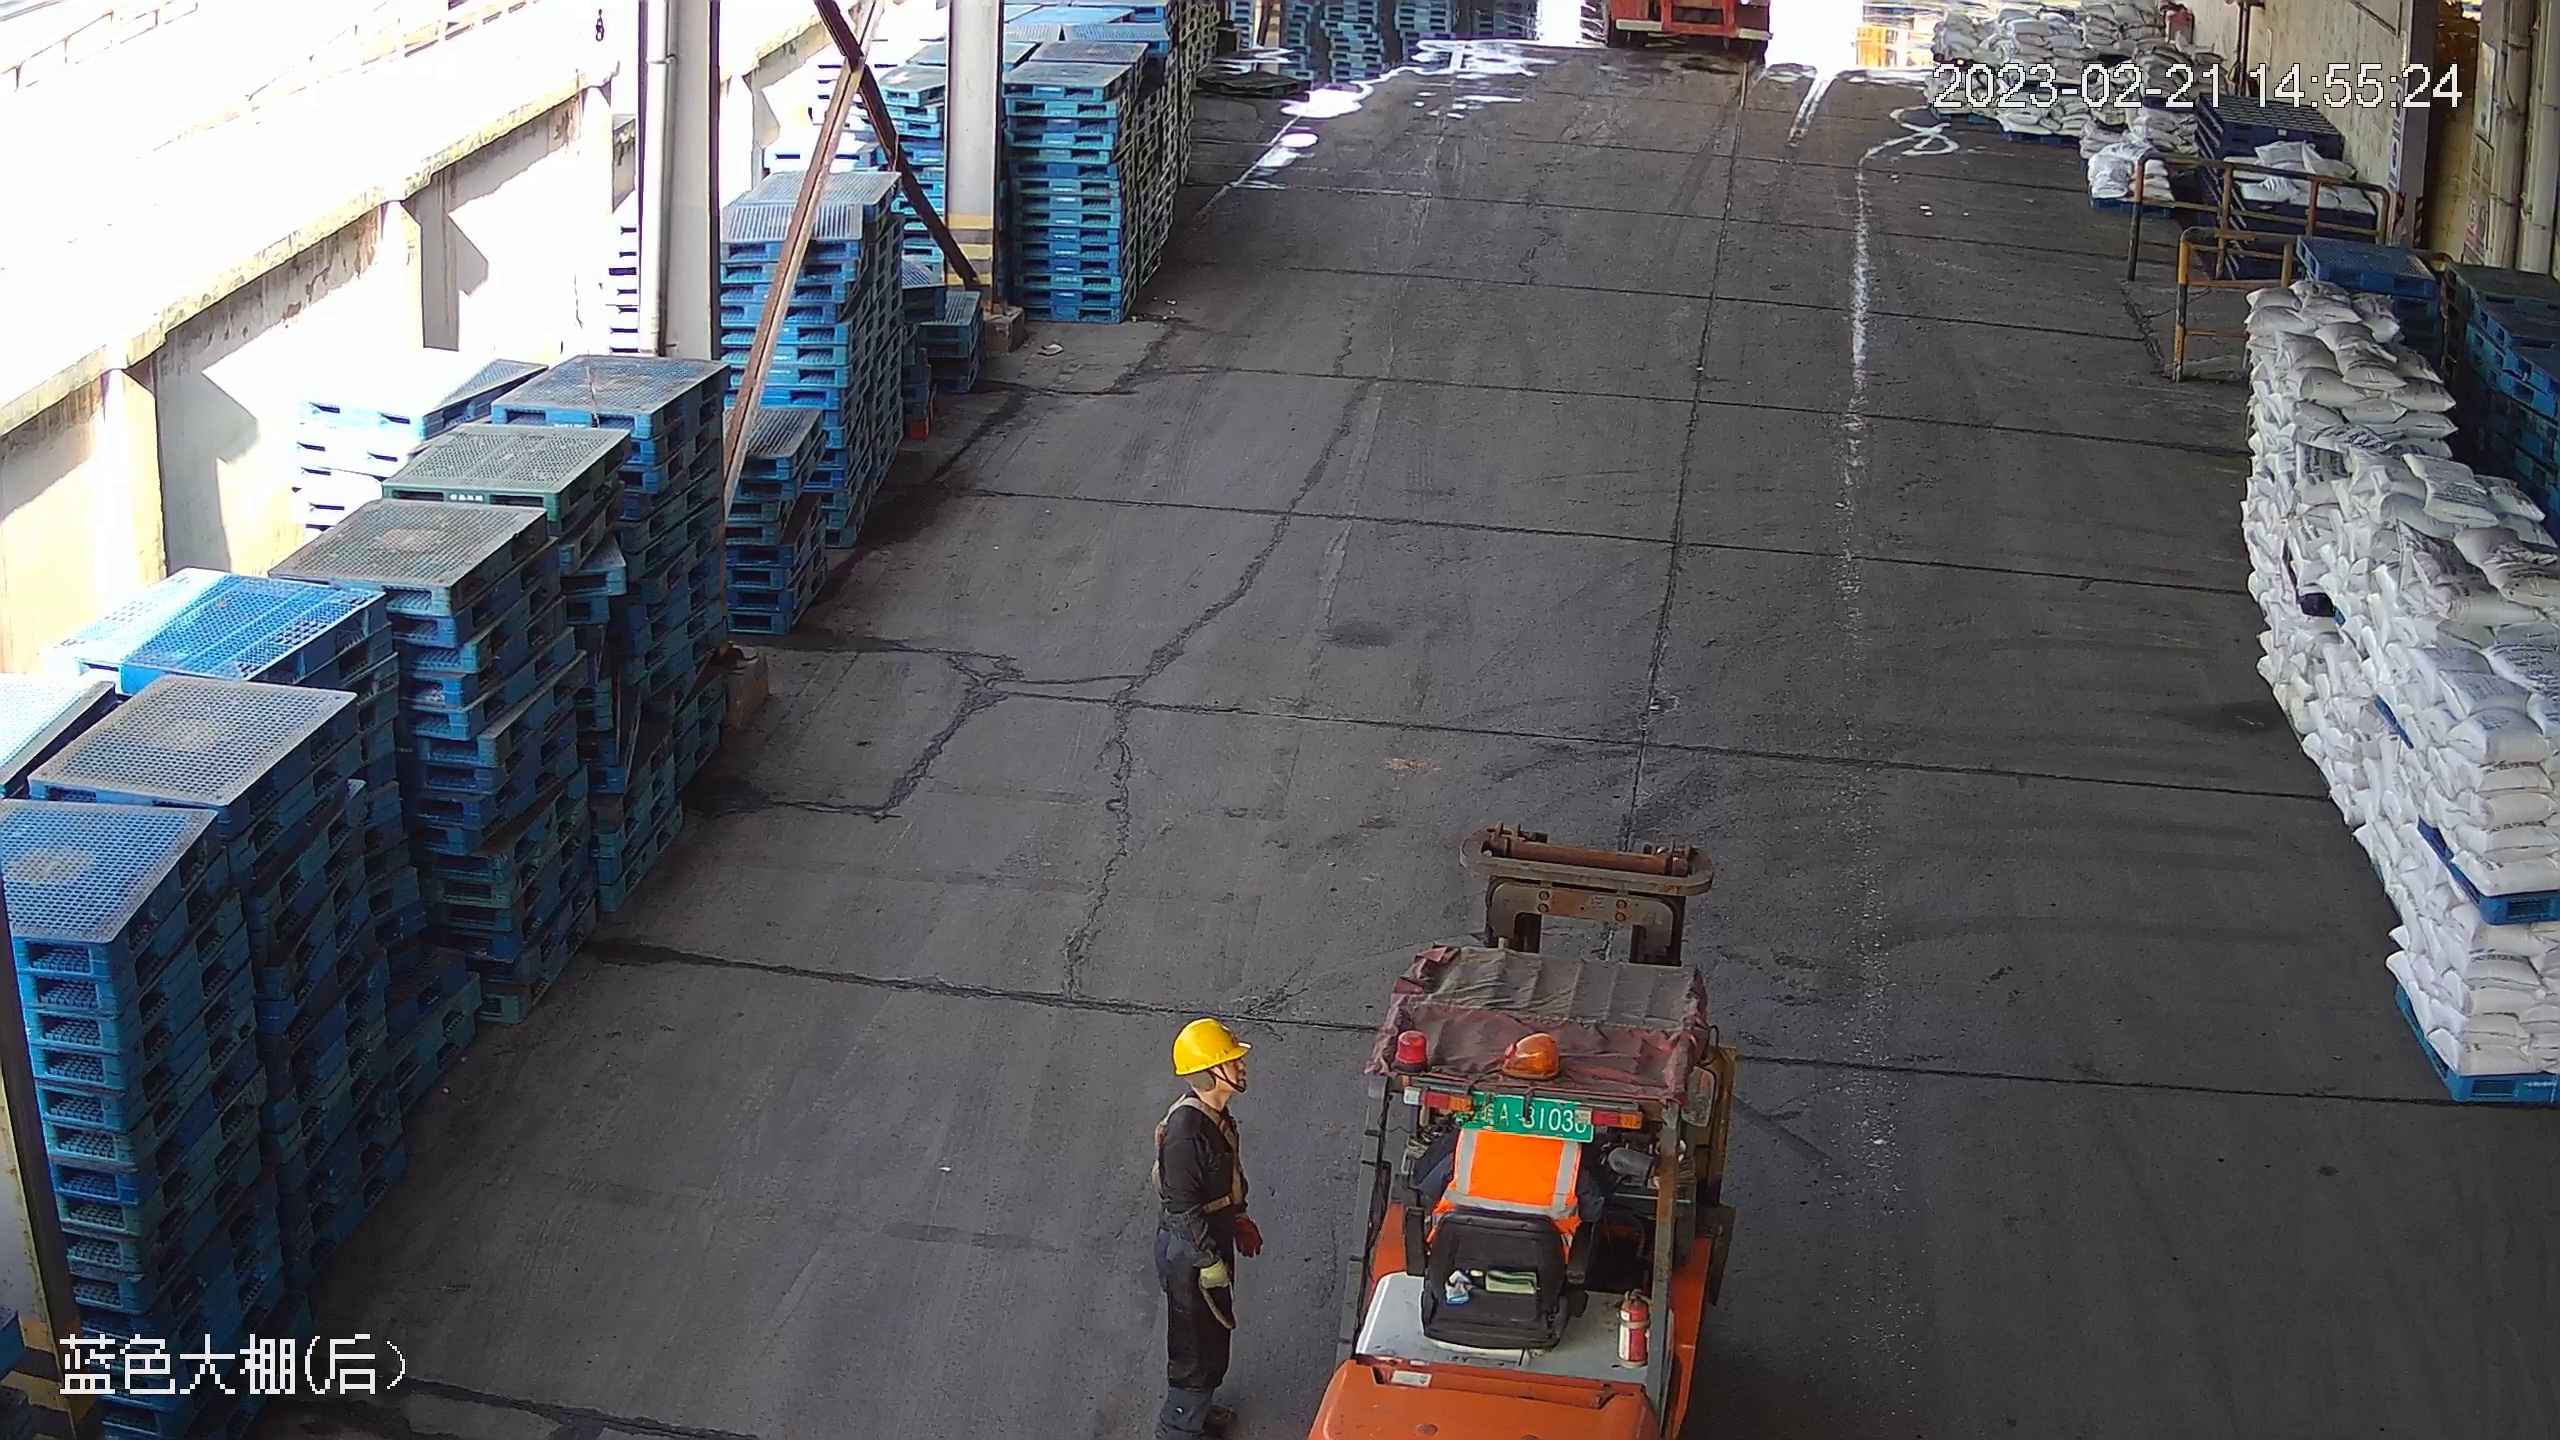belt: (1162, 1099, 1254, 1219)
head: (1153, 1015, 1262, 1160)
helmet: (1171, 1015, 1253, 1075)
people: (1149, 1014, 1266, 1440)
